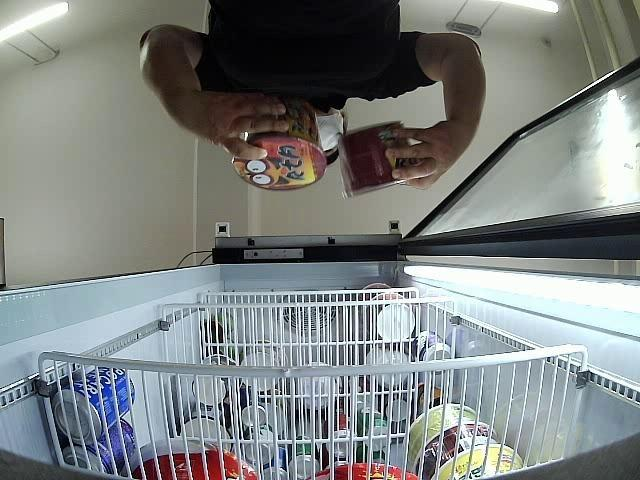05_nuguri_L: (232, 94, 326, 190), (338, 118, 419, 198)
